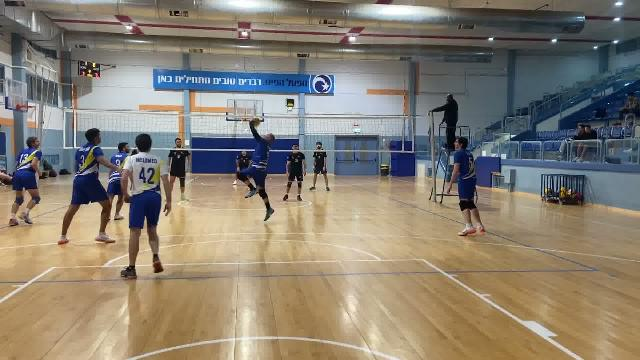ball: (249, 118, 262, 130)
